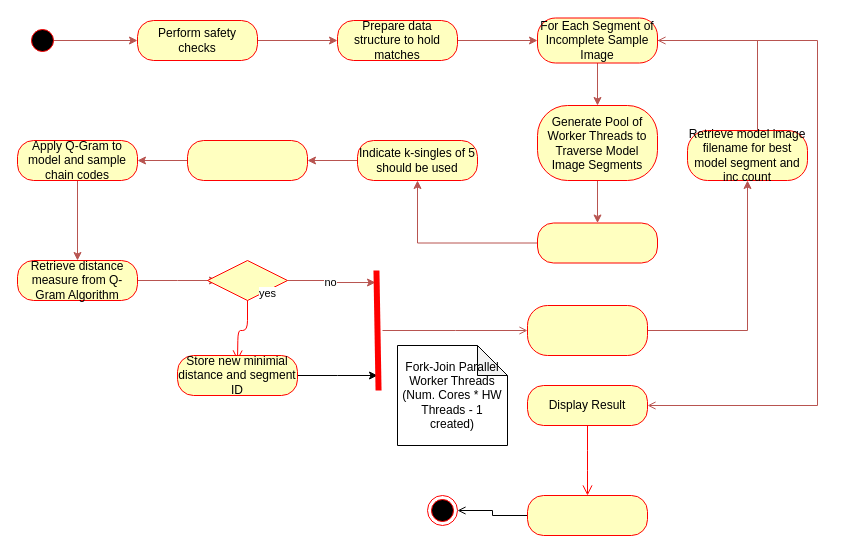
The diagram is 843 pixels wide and 553 high, and some of its shapes have lost their labels. The shapes that lost their labels are listed below. From the top down, each one's centre as x and y in pixels, then its label:
[247,160]: Retrieve chain code for segment from database
[597,242]: Initialize best minimial distance matching segment ID
[247,280]: Minimal Distance
[587,330]: Keep track of best matching model segment for each sample segment
[587,515]: Store final results in spreadsheet
